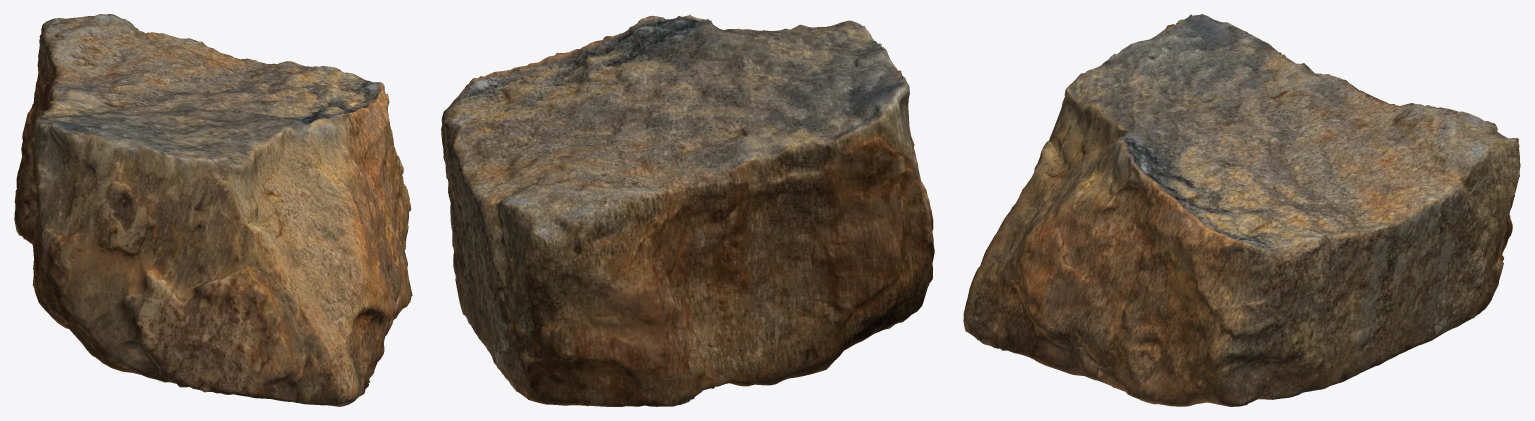
File: boulder_03.glb
3 renders of one model, left to right at view 1: azimuth 30°, elevation 25°; view 2: azimuth 150°, elevation 25°; view 3: azimuth 270°, elevation 25°, orthographic. The views are drawn at different scales.
Visible parts, largest first — view 1: boulder_03_LOD0; view 2: boulder_03_LOD0; view 3: boulder_03_LOD0.
Boxes of the visible parts, left/top/right/bottom form: boulder_03_LOD0: left=14, top=14, right=412, bottom=406; boulder_03_LOD0: left=441, top=14, right=934, bottom=406; boulder_03_LOD0: left=963, top=14, right=1520, bottom=406.
Size of the model in its own units: 2.41 by 1.47 by 3.07.
Materials: 1 (1 with a texture image).
